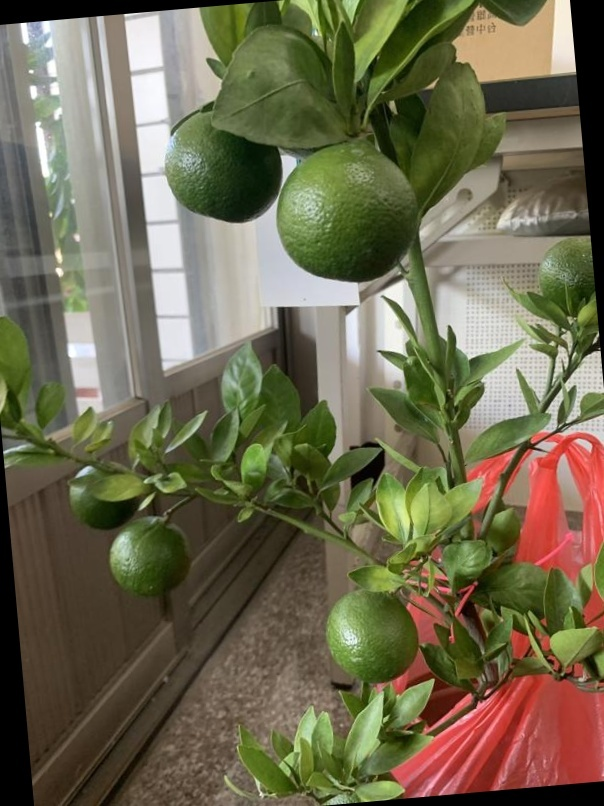Tangerine: (276, 140, 418, 284), (162, 105, 285, 223), (326, 588, 419, 685), (108, 516, 190, 598), (538, 234, 592, 315)
